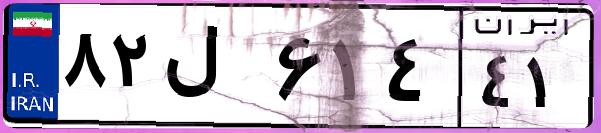1: (330, 28, 385, 110), (525, 38, 570, 115)
2: (110, 28, 158, 98)
4: (385, 28, 445, 110), (475, 38, 525, 113)
6: (270, 28, 330, 110)
8: (57, 26, 110, 100)
ل: (158, 20, 270, 120)
